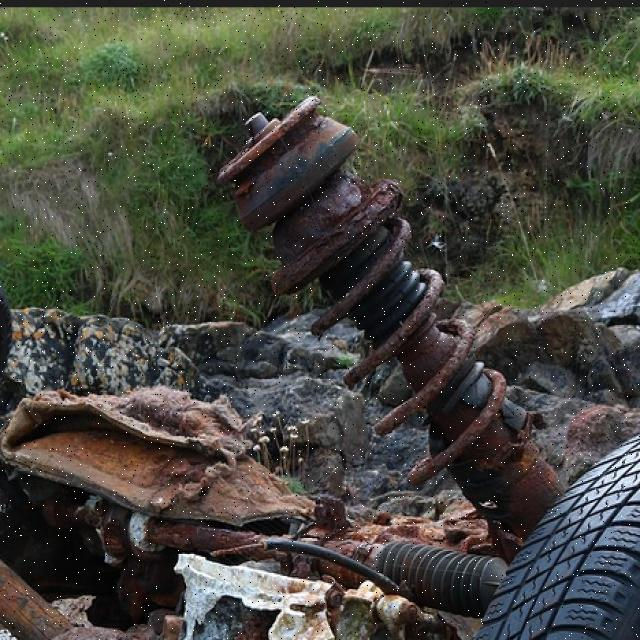shock absorber: (215, 95, 566, 551)
